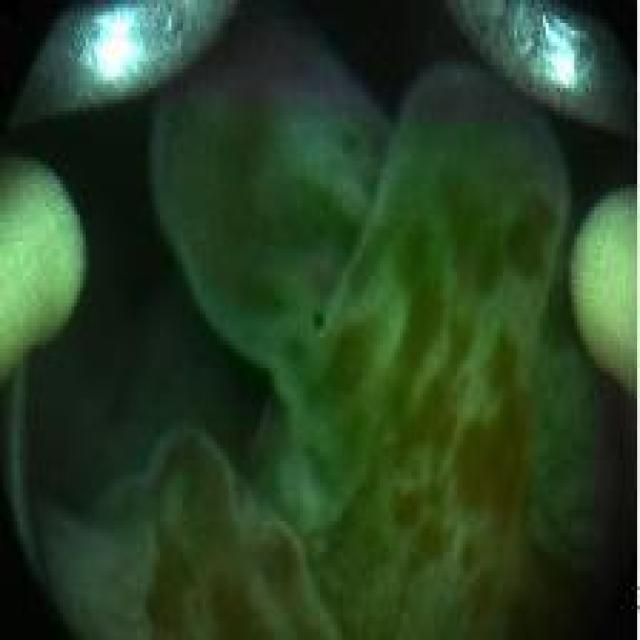blur: (168, 95, 433, 488)
color misalignment: (307, 307, 329, 337)
contrast: (28, 115, 281, 505), (523, 402, 634, 634), (290, 4, 469, 113)
instrument: (449, 3, 635, 142), (9, 4, 237, 116), (1, 153, 80, 390), (568, 176, 635, 403)
specularity: (89, 11, 145, 81), (542, 19, 581, 91)
